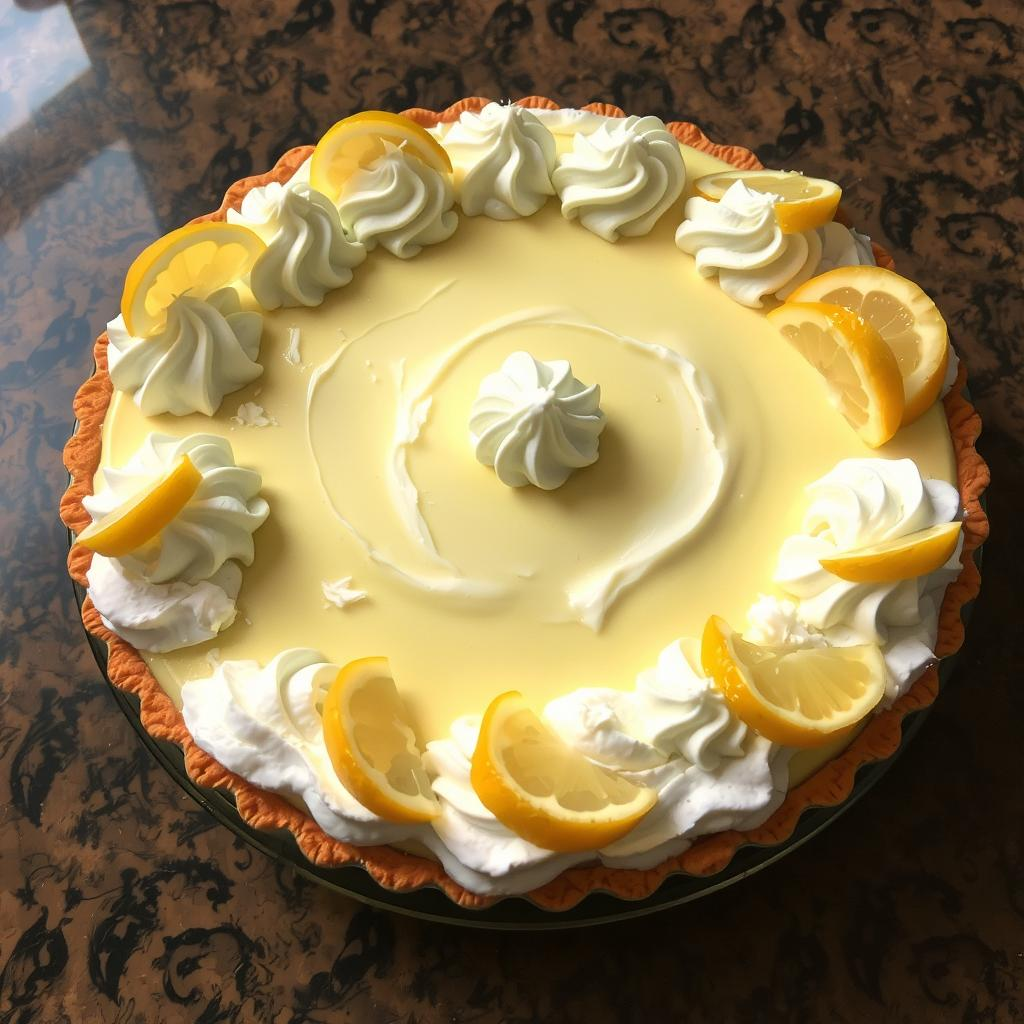pie: (59, 83, 997, 917)
